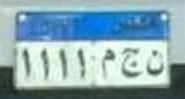1: (37, 47, 52, 81), (74, 46, 88, 82), (56, 48, 69, 81), (20, 46, 33, 78)
jeem: (120, 46, 144, 80)
meem: (101, 45, 117, 81)
noon: (145, 47, 164, 80)
